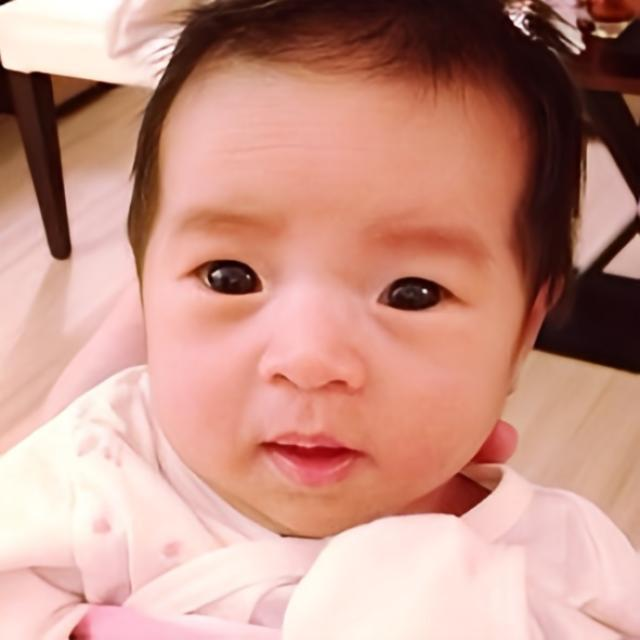surprise: (138, 39, 528, 538)
